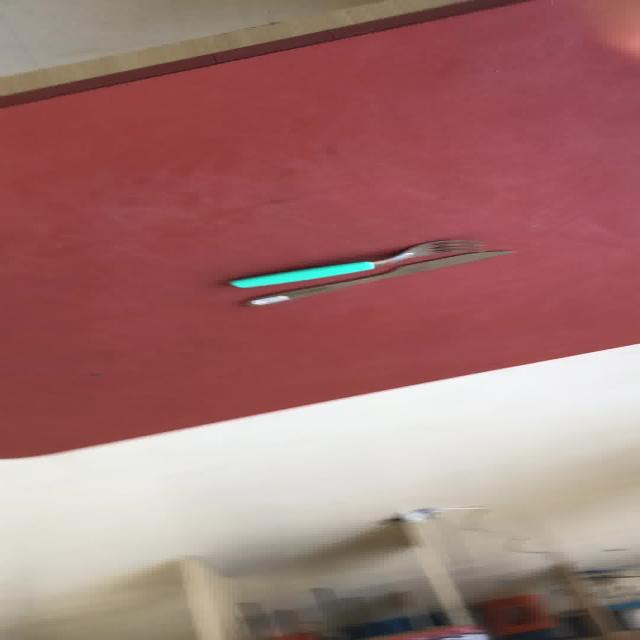fork: (226, 238, 484, 289)
knife fork: (242, 248, 515, 307)
